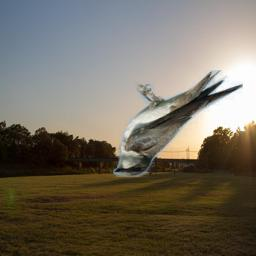Swallow: (113, 70, 243, 177)
